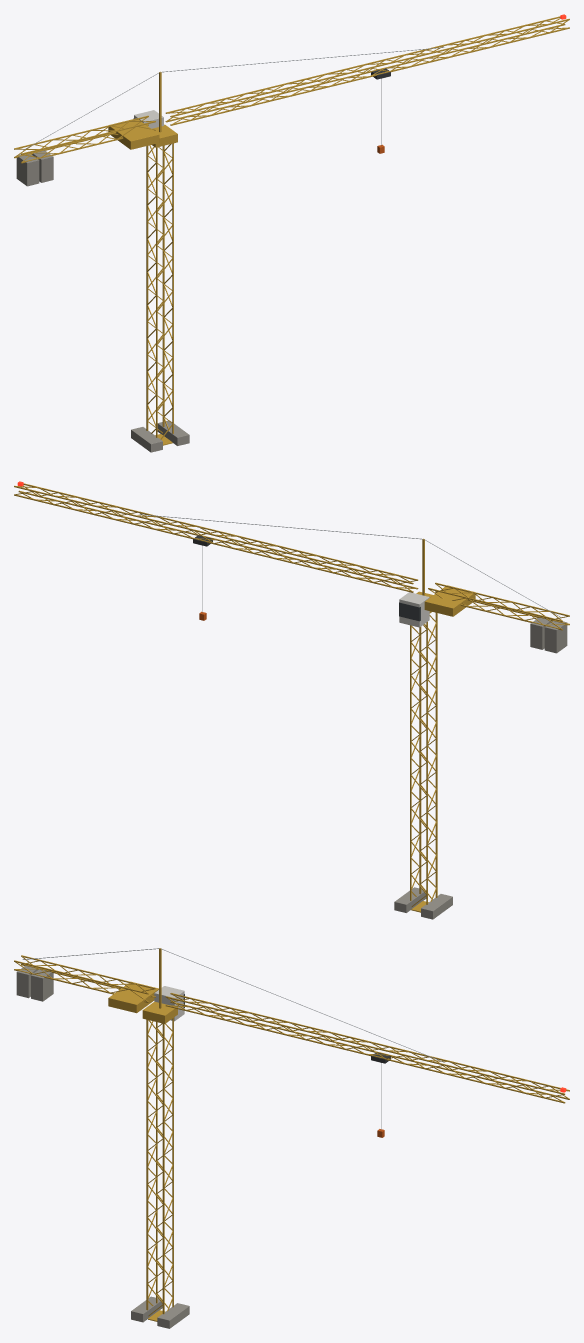
The model's file is prop_rt_tower_crane.glb.
The picture shows the model from 3 angles, top to bottom: view 1: azimuth 30°, elevation 25°; view 2: azimuth 150°, elevation 25°; view 3: azimuth 330°, elevation 25°; orthographic projection.
Visible parts, largest first — view 1: Body; view 2: Body; view 3: Body.
Part boxes in pixels (bbox=[...]): Body: bbox=[14, 14, 569, 452]; Body: bbox=[14, 481, 569, 919]; Body: bbox=[14, 948, 569, 1328].
Size of the model in its own units: 54.03 by 34.62 by 4.52.
